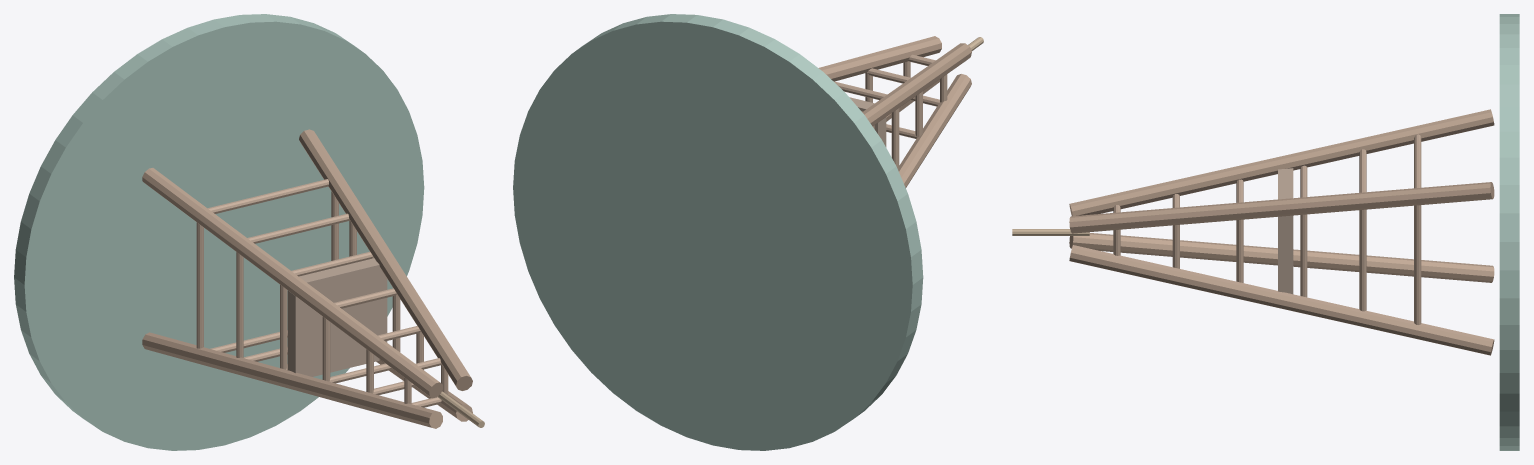
The model's file is eiffel_tower.glb.
3 renders of one model, left to right at view 1: azimuth 30°, elevation 25°; view 2: azimuth 150°, elevation 25°; view 3: azimuth 270°, elevation 25°, orthographic. The views are drawn at different scales.
Visible parts, largest first — view 1: island, platform, leg_-1_1, leg_-1_-1, leg_1_1, crossy_0.9_-1, crossx_0.9_1, crossx_1.5_1, crossy_1.5_-1, crossy_2.15_-1, crossx_2.15_1, crossy_2.85_-1 (+3 smaller); view 2: island, leg_-1_1, leg_-1_-1, leg_1_1, crossy_2.85_-1; view 3: island, leg_1_1, leg_1_-1, leg_-1_1, leg_-1_-1, platform, crossy_0.9_1, crossy_1.5_1, crossy_2.15_1, crossy_2.85_1.
Boxes of the visible parts, x1,y1,x2,y2 form: island: (14, 14, 424, 450); platform: (287, 258, 387, 376); leg_-1_1: (142, 168, 442, 398); leg_-1_-1: (142, 332, 442, 428); leg_1_1: (299, 129, 472, 390); crossy_0.9_-1: (196, 222, 203, 348); crossx_0.9_1: (208, 179, 328, 213); crossx_1.5_1: (247, 213, 349, 243); crossy_1.5_-1: (236, 252, 243, 357); crossy_2.15_-1: (280, 285, 287, 369); crossx_2.15_1: (291, 251, 372, 276); crossy_2.85_-1: (322, 317, 330, 381); island: (513, 14, 923, 450); leg_-1_1: (862, 43, 971, 126); leg_-1_-1: (899, 74, 971, 187); leg_1_1: (818, 36, 941, 81); crossy_2.85_-1: (891, 108, 899, 170); island: (1499, 14, 1519, 450); leg_1_1: (1069, 182, 1494, 233); leg_1_-1: (1069, 245, 1494, 355); leg_-1_1: (1069, 109, 1494, 216); leg_-1_-1: (1069, 233, 1494, 282); platform: (1278, 168, 1293, 294); crossy_0.9_1: (1414, 205, 1421, 324); crossy_1.5_1: (1359, 209, 1366, 311); crossy_2.15_1: (1300, 214, 1307, 297); crossy_2.85_1: (1236, 219, 1243, 282).
Bounding box in the file's own units: 4.8 × 4.8 × 5.57.
